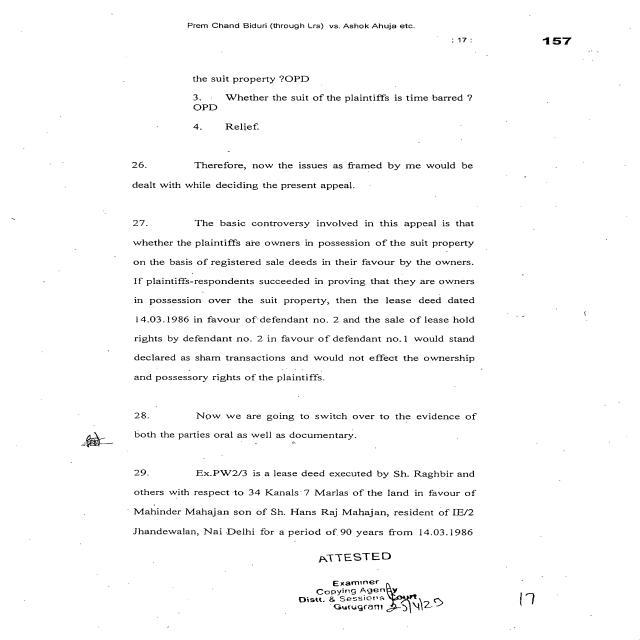page-number: (468, 0, 639, 47)
